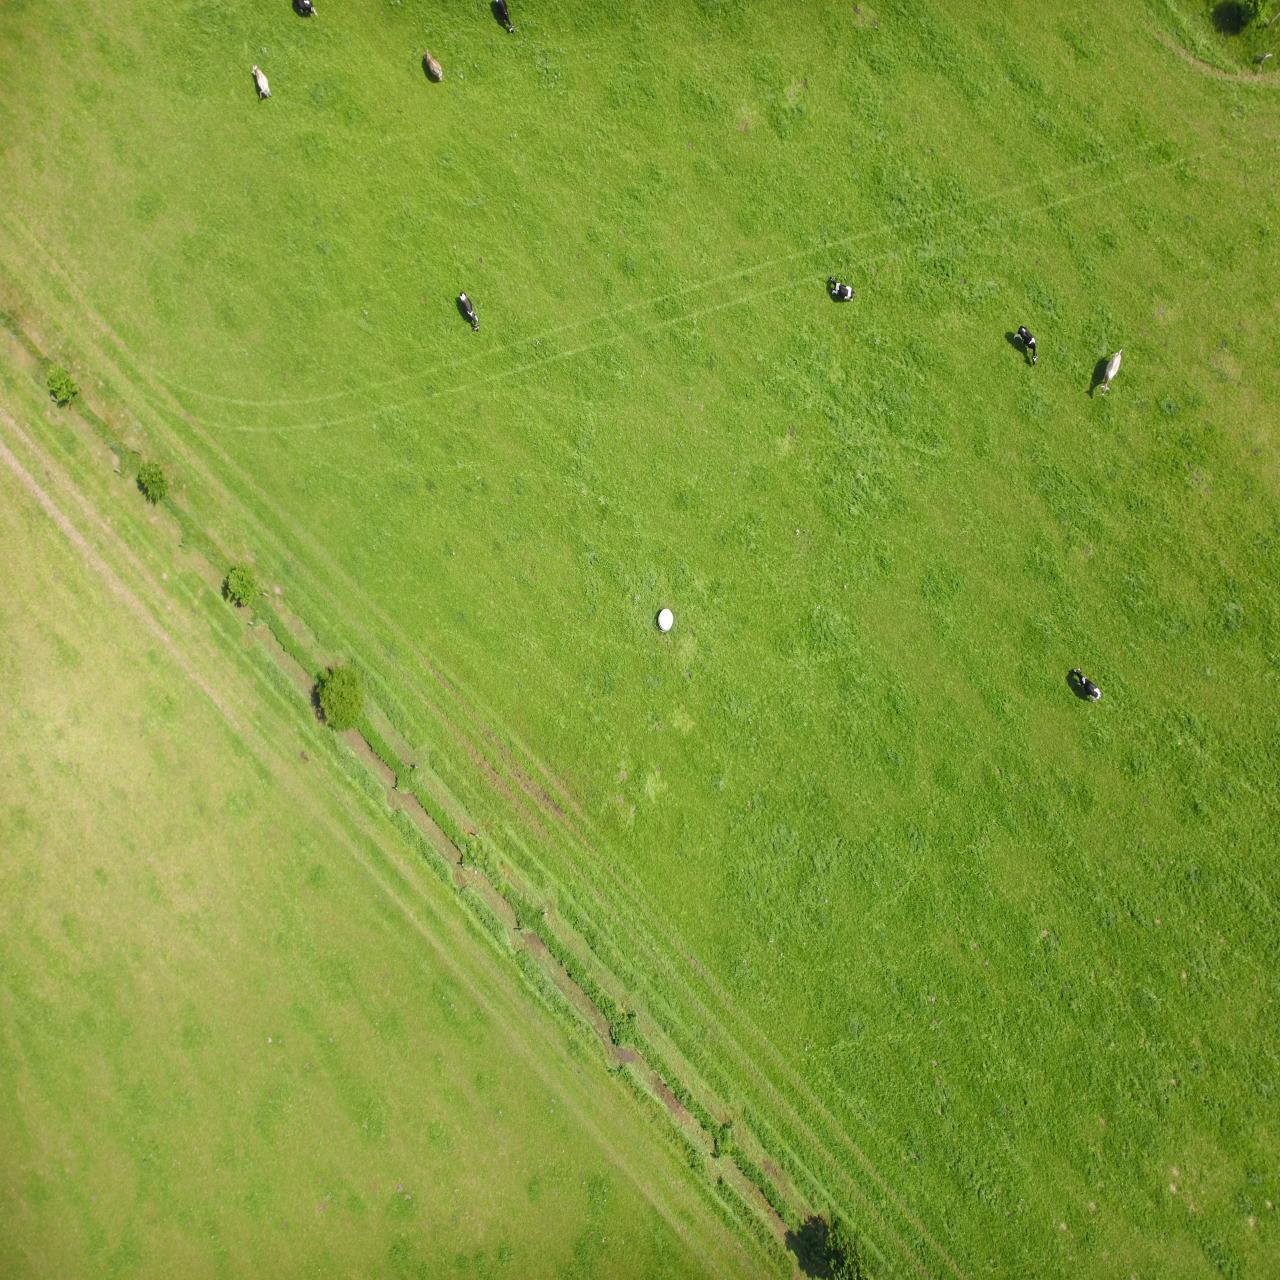cow: (1097, 335, 1124, 404), (1064, 660, 1104, 703), (822, 268, 858, 311), (455, 286, 482, 336), (1012, 321, 1041, 366), (489, 0, 519, 38), (421, 42, 445, 88), (250, 60, 272, 105), (288, 0, 316, 20)
